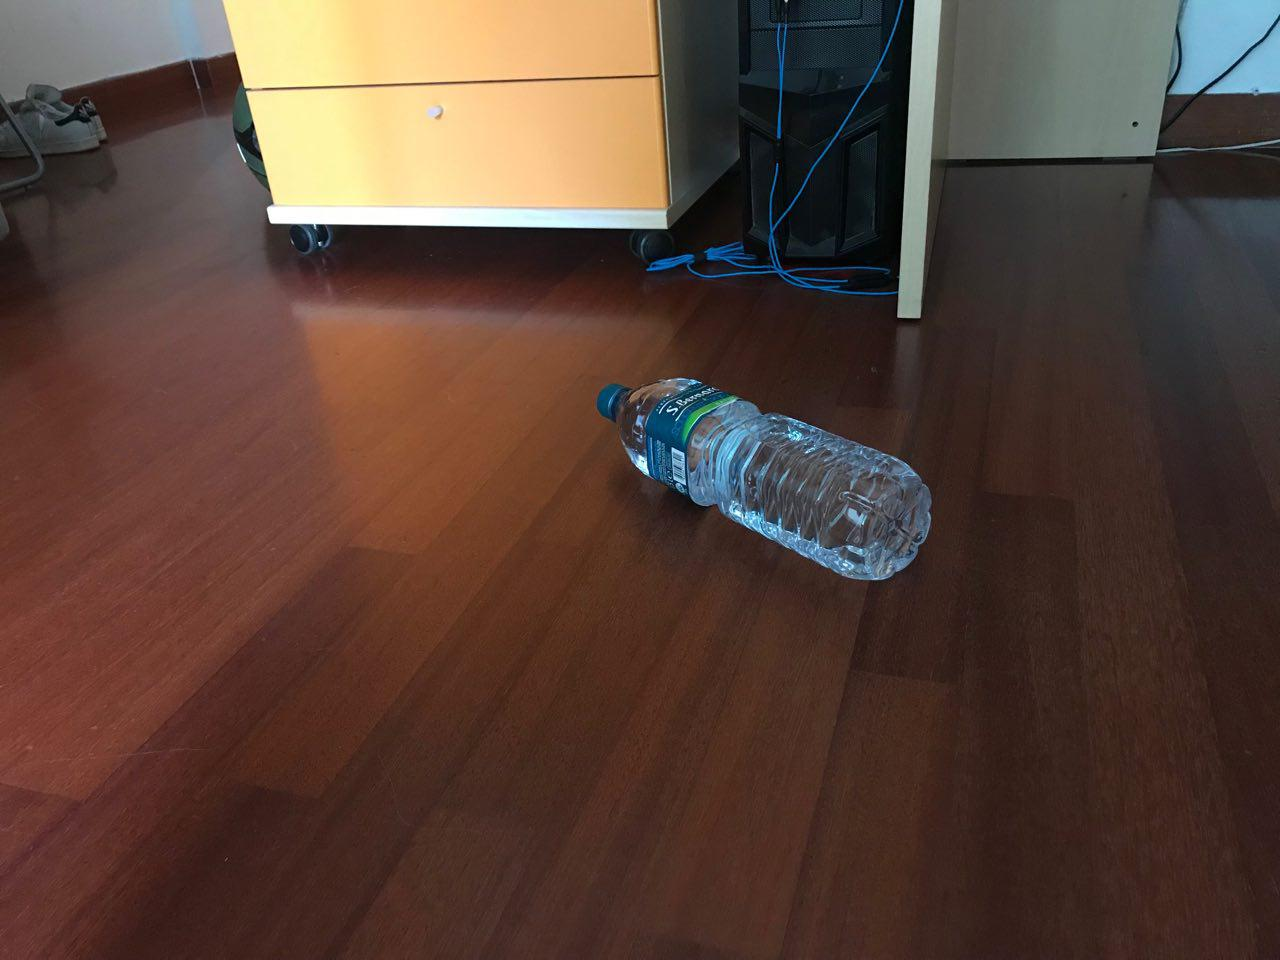san_bernardo: (595, 375, 932, 583)
